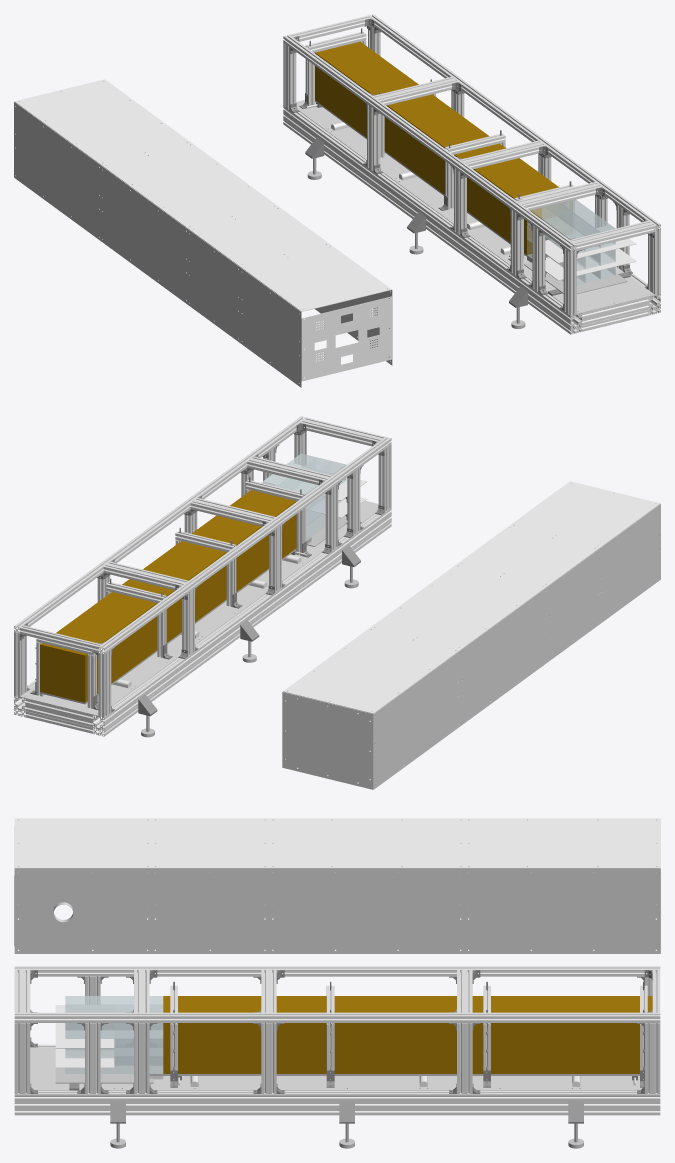
3 views of the same model, one above another, from view 1: azimuth 30°, elevation 25°; view 2: azimuth 150°, elevation 25°; view 3: azimuth 270°, elevation 25° (orthographic). The views are drawn at different scales.
Visible parts, largest first — view 1: TB2025_NewMechanicalSupporter; view 2: TB2025_NewMechanicalSupporter; view 3: TB2025_NewMechanicalSupporter.
Boxes of the visible parts, x1,y1,x2,y2 form: TB2025_NewMechanicalSupporter: [14, 14, 660, 387]; TB2025_NewMechanicalSupporter: [14, 416, 660, 789]; TB2025_NewMechanicalSupporter: [14, 818, 660, 1148].
Bounding box in the file's own units: 2467 × 713 × 3306.
